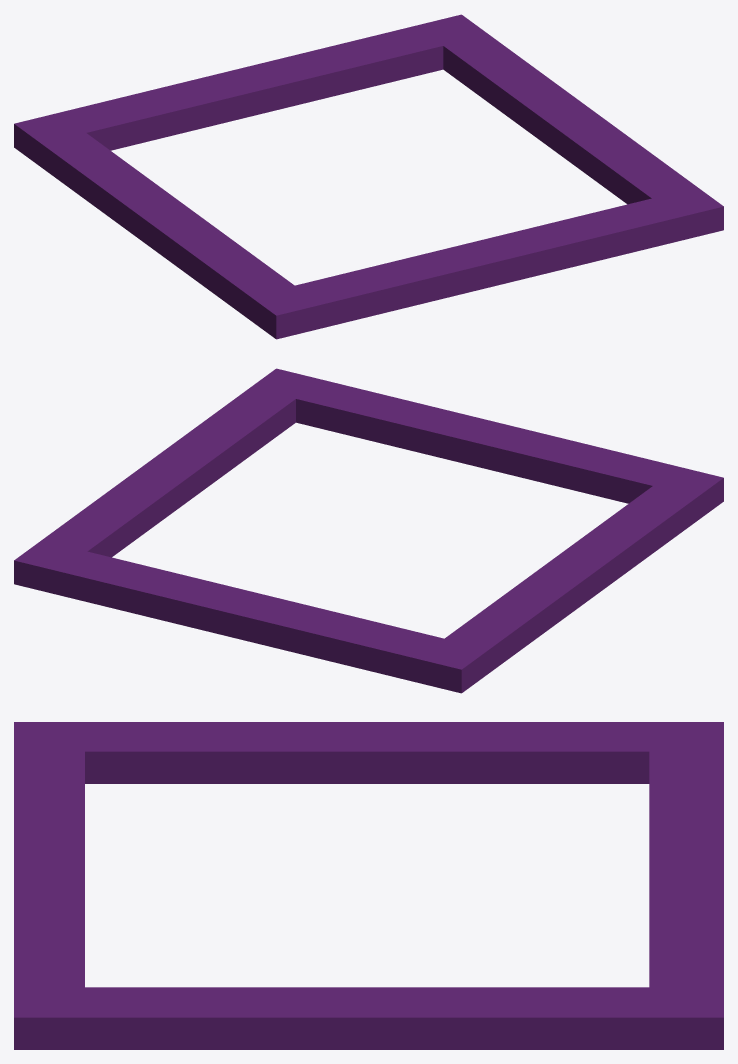
The model's file is frame.glb.
3 renders of one model, top to bottom at view 1: azimuth 30°, elevation 25°; view 2: azimuth 150°, elevation 25°; view 3: azimuth 270°, elevation 25°, orthographic. The views are drawn at different scales.
Parts seen in each view (by area): view 1: Frame; view 2: Frame; view 3: Frame.
Part boxes in pixels (x1,y1,x2,y2): Frame: (14, 14, 723, 339); Frame: (14, 368, 723, 693); Frame: (14, 722, 723, 1049).
Bounding box in the file's own units: 1 × 0.0507 × 1.01.
